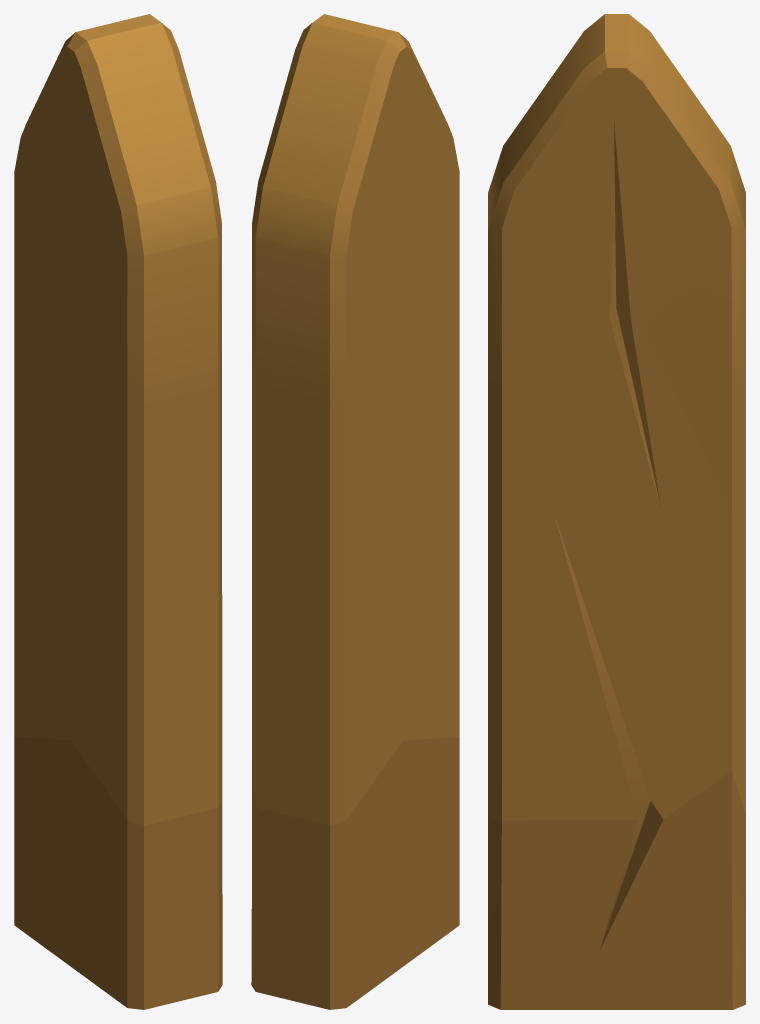
The model's file is fence1.fbx.
3 views of the same model, side by side, from view 1: azimuth 30°, elevation 25°; view 2: azimuth 150°, elevation 25°; view 3: azimuth 270°, elevation 25° (orthographic). The views are drawn at different scales.
Visible parts, largest first — view 1: Cube.002; view 2: Cube.002; view 3: Cube.002.
Part boxes in pixels (x1,y1,x2,y2): Cube.002: [14, 14, 222, 1009]; Cube.002: [251, 14, 459, 1009]; Cube.002: [488, 14, 745, 1009].
Size of the model in its own units: 8.12 by 75.49 by 18.49.
